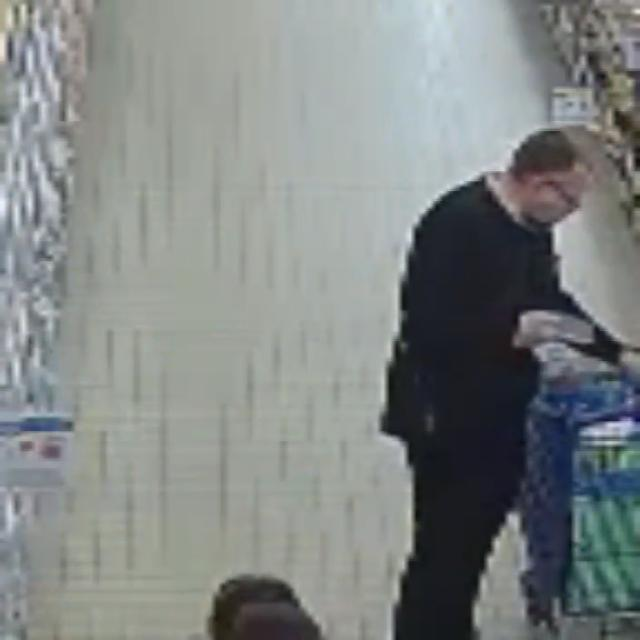bags: (380, 345, 451, 448)
hands: (515, 311, 582, 348), (618, 349, 639, 386)
person: (382, 130, 639, 639)
